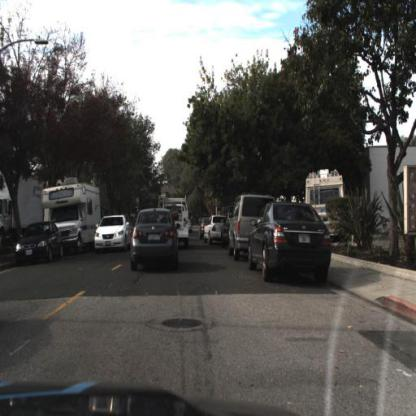car: (250, 200, 333, 289), (41, 183, 105, 251), (132, 208, 181, 275), (228, 194, 274, 263), (304, 166, 344, 243), (13, 220, 57, 268), (158, 191, 192, 250), (94, 209, 131, 253), (202, 216, 227, 249)
truck: (46, 178, 104, 249), (1, 156, 45, 233), (305, 171, 347, 245), (157, 198, 190, 252)
